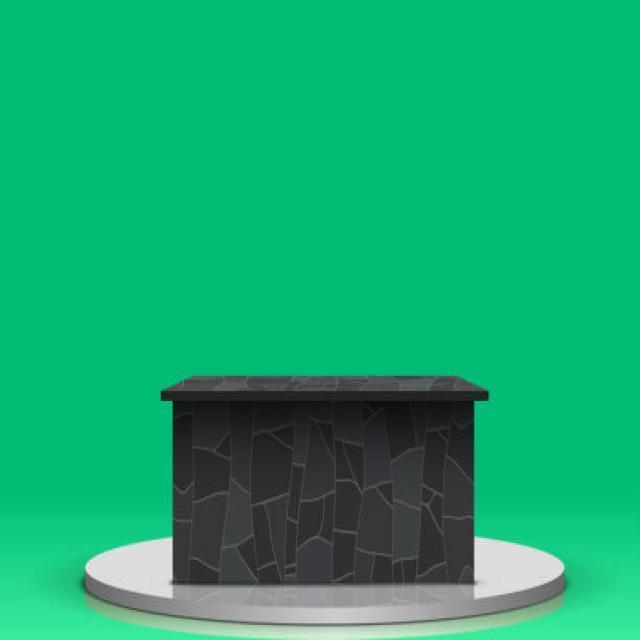table: (162, 374, 490, 584)
